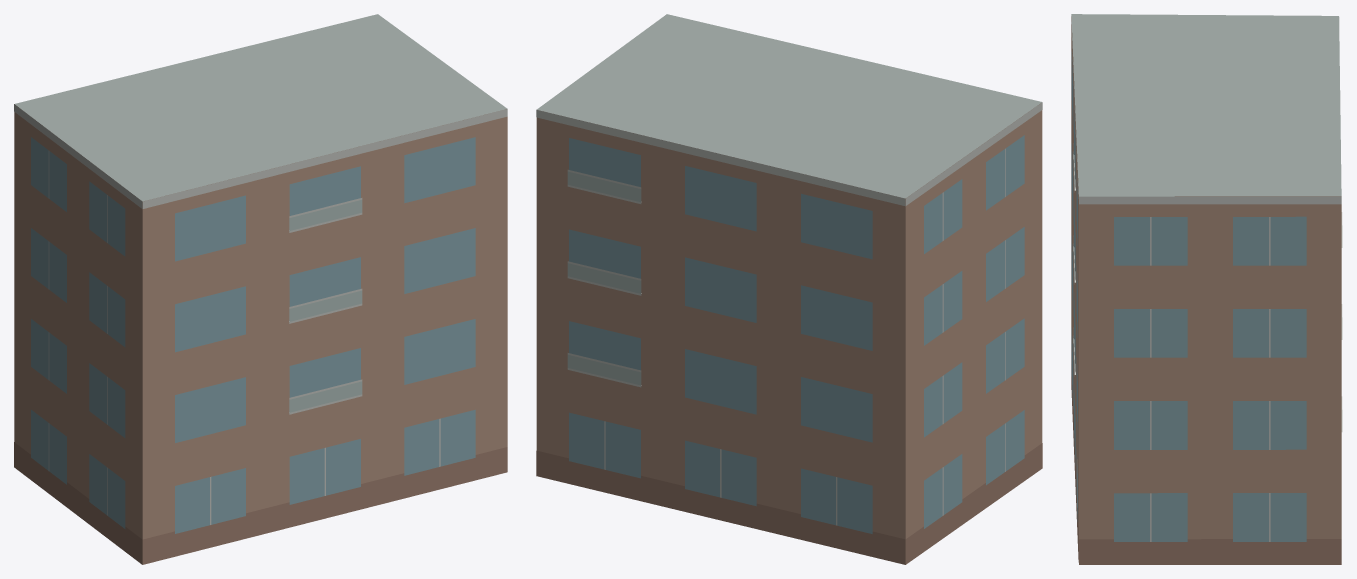
Rendered from survey-upis-32681791.glb.
3 views of the same model, side by side, from view 1: azimuth 30°, elevation 25°; view 2: azimuth 150°, elevation 25°; view 3: azimuth 270°, elevation 25° (orthographic).
Visible parts, largest first — view 1: survey-upis-32681791.tmp; view 2: survey-upis-32681791.tmp; view 3: survey-upis-32681791.tmp.
Part boxes in pixels (<box>): survey-upis-32681791.tmp: <box>14,14,507,564</box>; survey-upis-32681791.tmp: <box>536,14,1042,564</box>; survey-upis-32681791.tmp: <box>1071,14,1342,564</box>.
Bounding box in the file's own units: 12.23 × 11.5 × 7.68.
